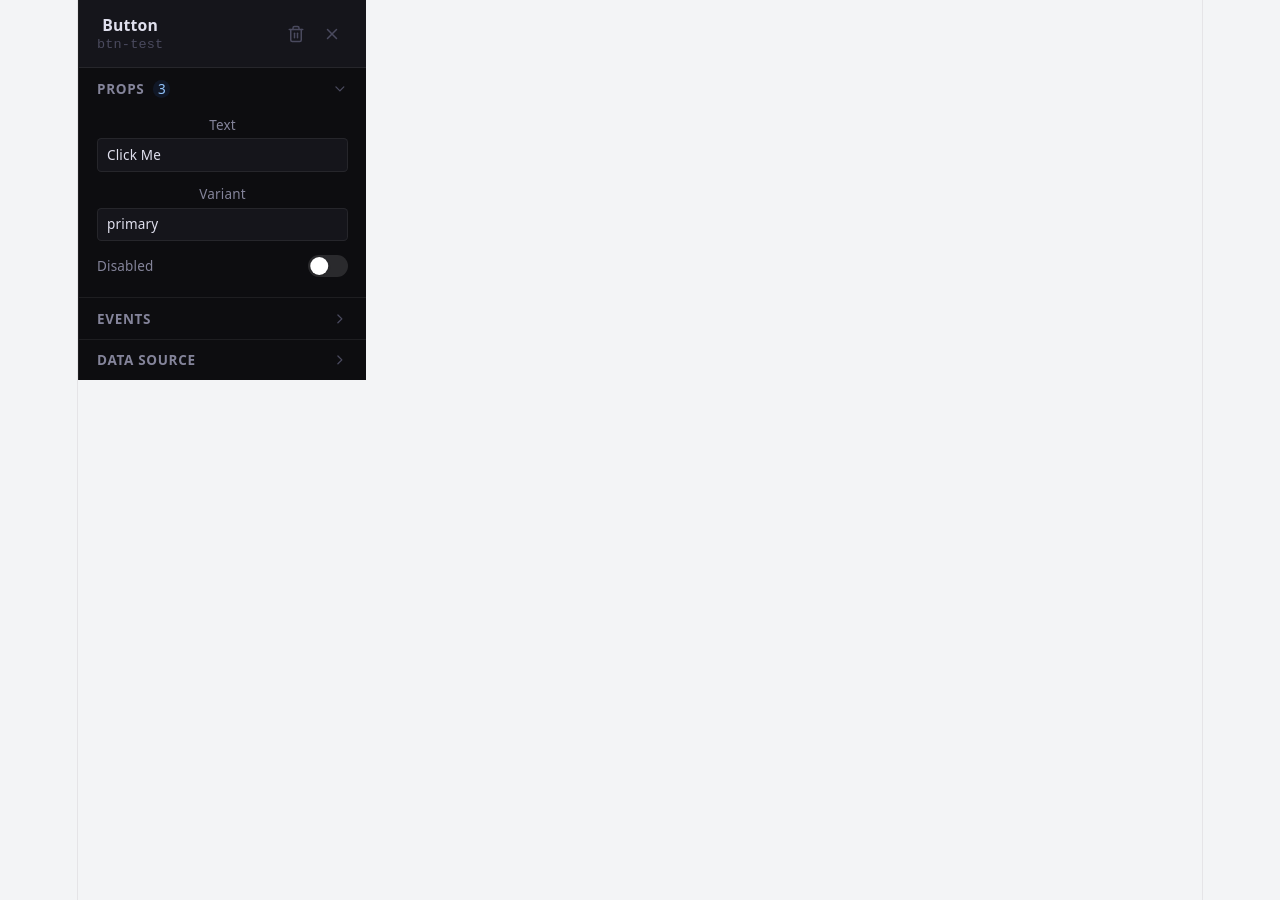
Scenario: events section › expanding the section reveals expression editors
Click the button "Events" at coordinates (124, 319), box x1=79 y1=298 x2=366 y2=339
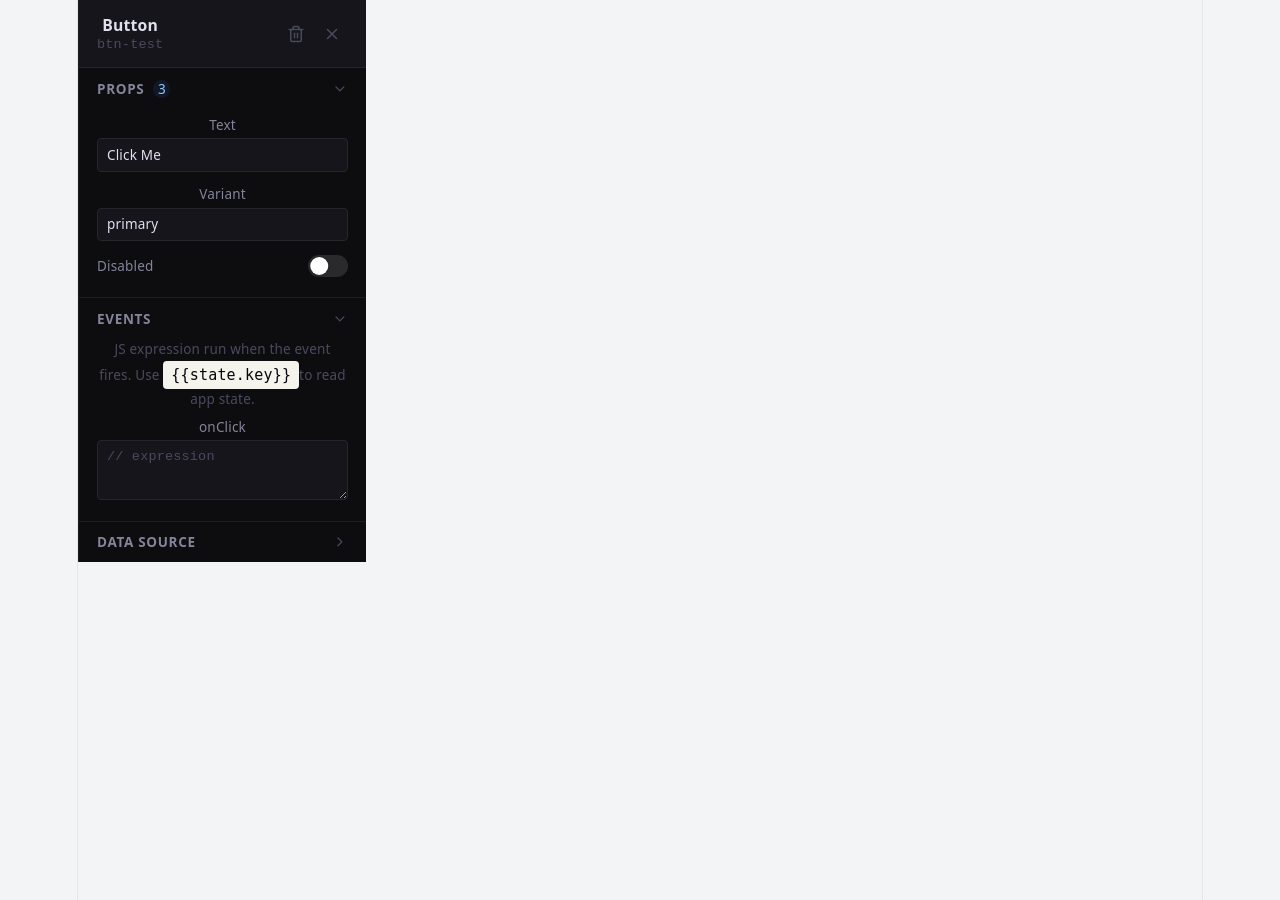
Check: the text box with placeholder "// expression" is shown, box x1=97 y1=440 x2=348 y2=500
